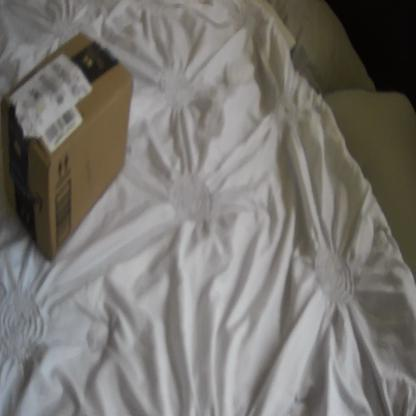package: (0, 22, 138, 273)
